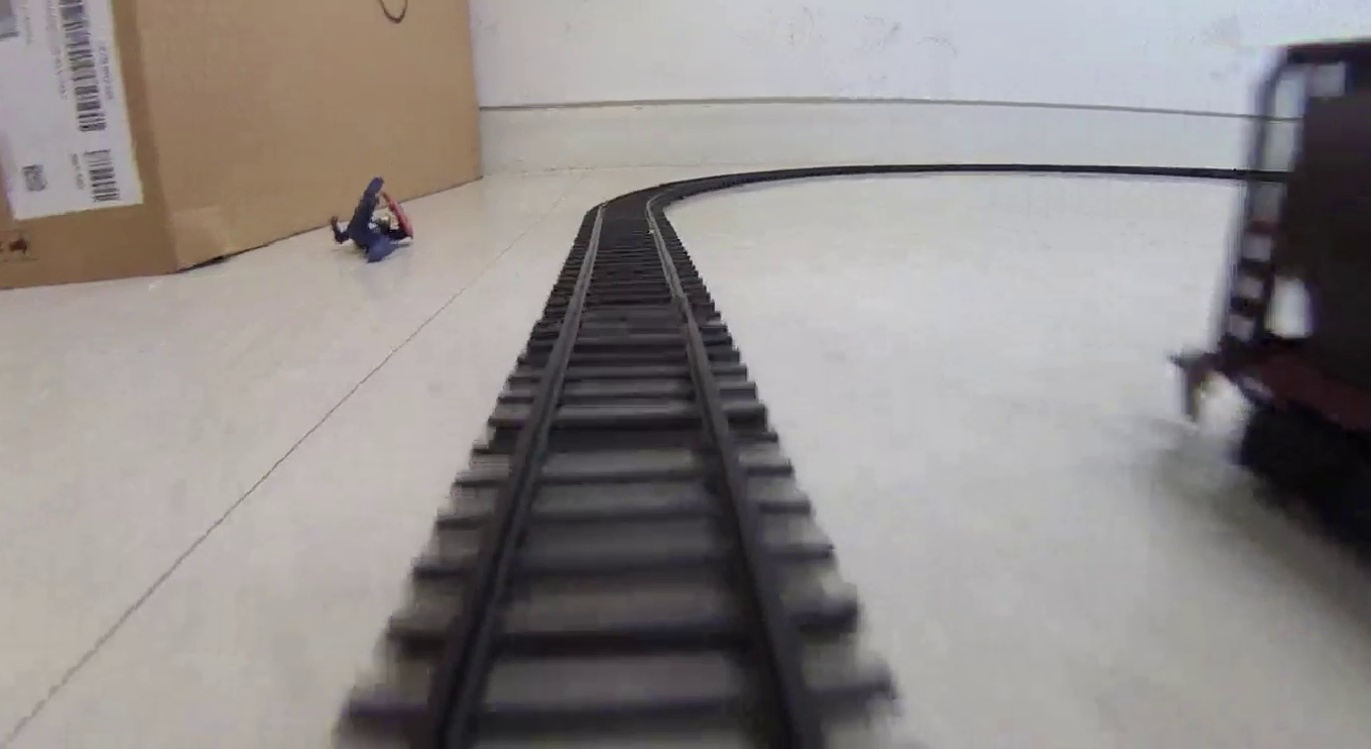people: (331, 176, 417, 261)
